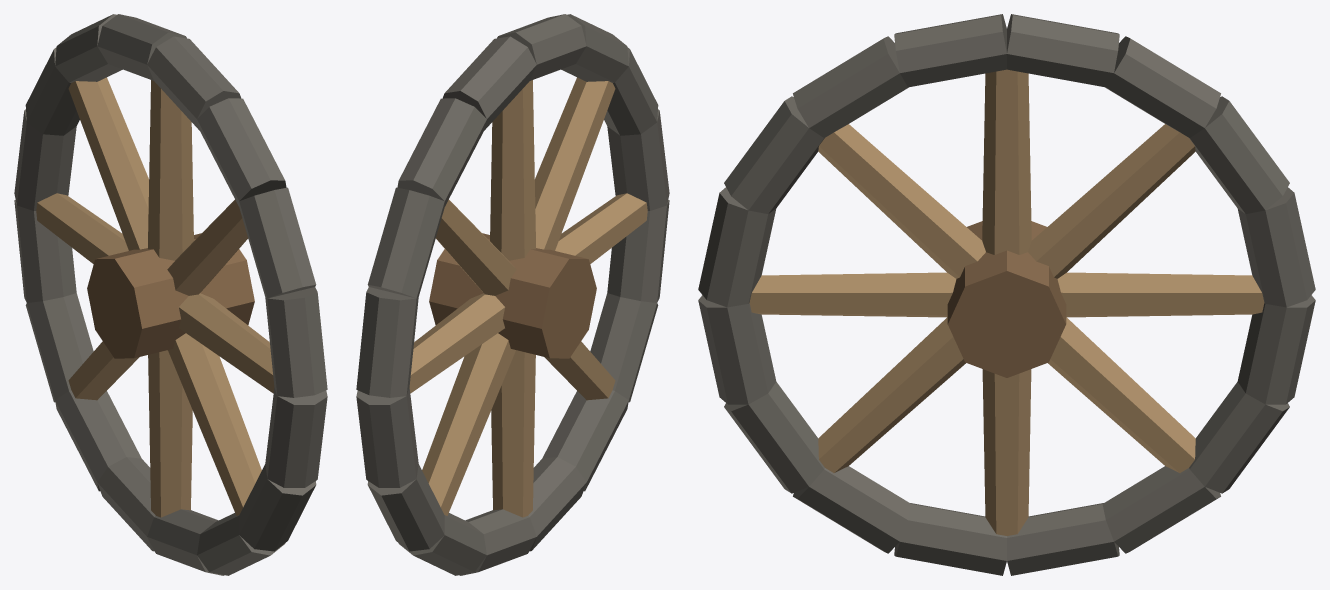
The model's file is cart_wheel.glb.
3 views of the same model, side by side, from view 1: azimuth 30°, elevation 25°; view 2: azimuth 150°, elevation 25°; view 3: azimuth 270°, elevation 25° (orthographic). The views are drawn at different scales.
Parts seen in each view (by area): view 1: IronTyredWheel; view 2: IronTyredWheel; view 3: IronTyredWheel.
Part boxes in pixels (box(x1,y1,x2,y2)): IronTyredWheel: box(14, 14, 327, 575); IronTyredWheel: box(356, 14, 669, 575); IronTyredWheel: box(698, 14, 1315, 575).
Bounding box in the file's own units: 0.26 × 1.15 × 1.15.
